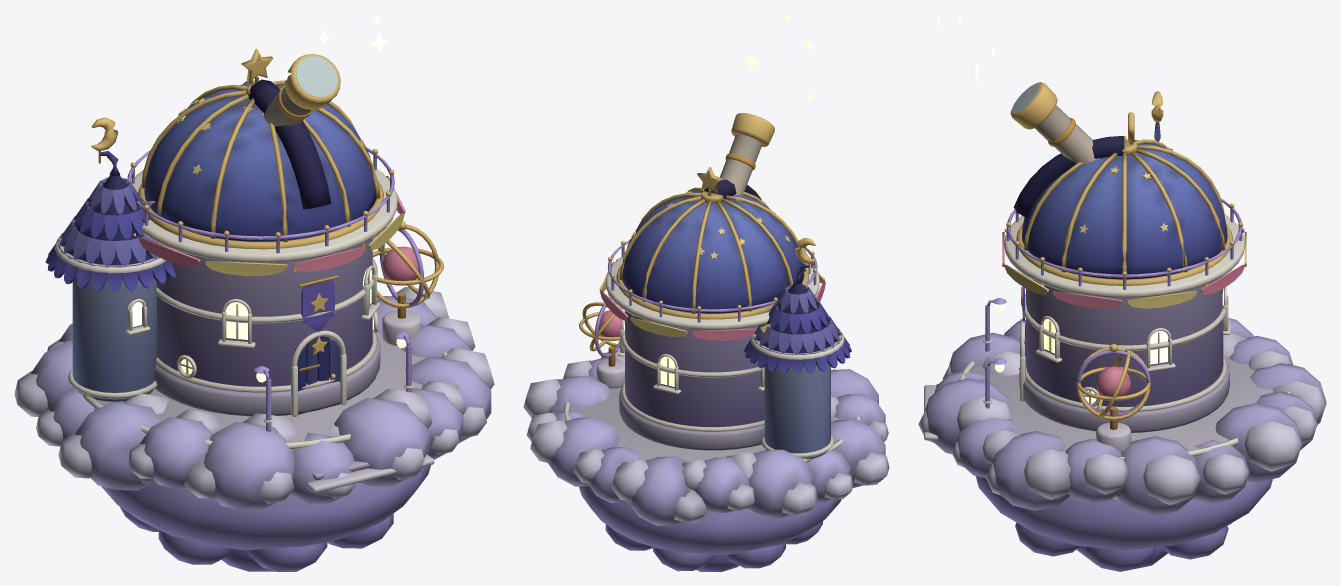
File: starfall-scoop-observatory.glb
3 renders of one model, left to right at view 1: azimuth 30°, elevation 25°; view 2: azimuth 150°, elevation 25°; view 3: azimuth 270°, elevation 25°, orthographic. The views are drawn at different scales.
Parts seen in each view (by area): view 1: W_STARFALL_SCOOP_OBSERVATORY__body; view 2: W_STARFALL_SCOOP_OBSERVATORY__body; view 3: W_STARFALL_SCOOP_OBSERVATORY__body.
Boxes of the visible parts, x1=… form: W_STARFALL_SCOOP_OBSERVATORY__body: x1=14, y1=14, x2=494, y2=571; W_STARFALL_SCOOP_OBSERVATORY__body: x1=523, y1=14, x2=889, y2=571; W_STARFALL_SCOOP_OBSERVATORY__body: x1=918, y1=14, x2=1326, y2=571.
Size of the model in its own units: 1.42 by 2 by 1.34.
